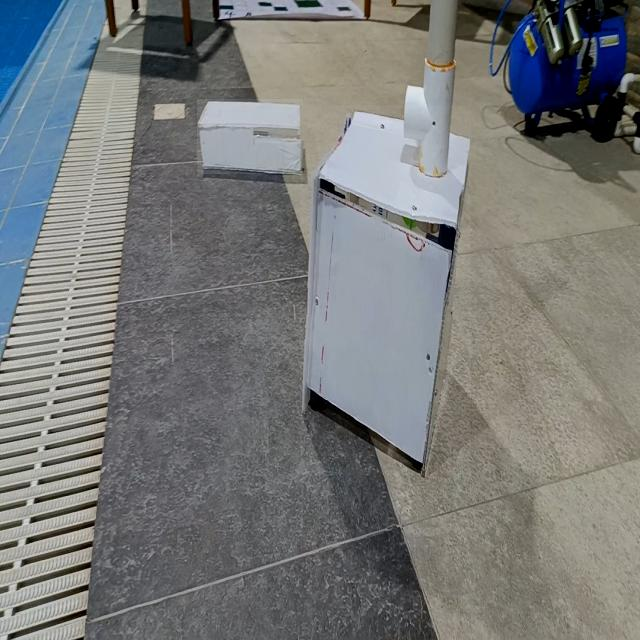Cube: (300, 105, 471, 475)
Cuboid: (197, 99, 303, 174)
